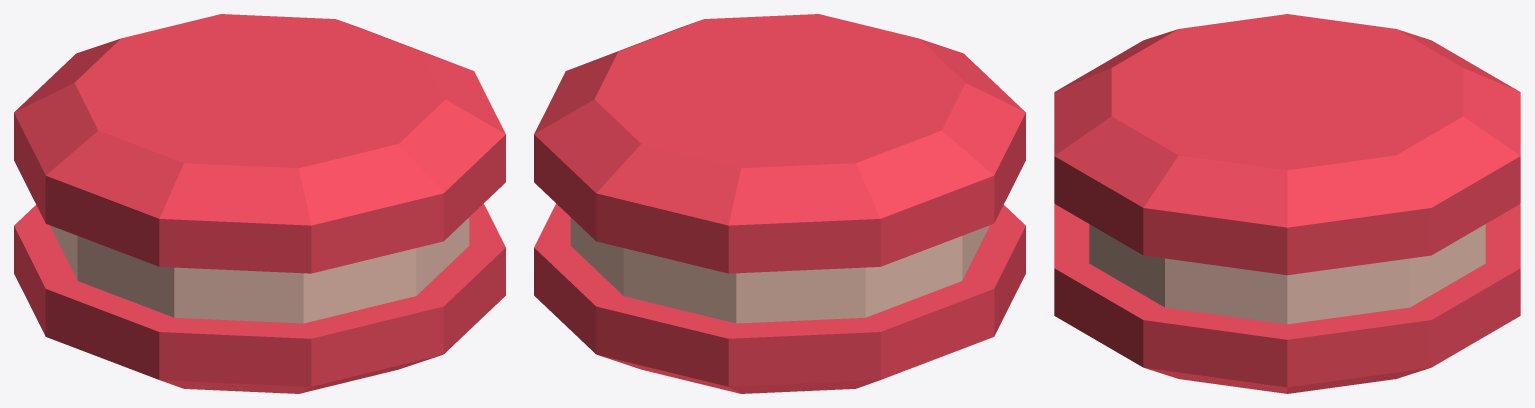
The model's file is macaron02.fbx.
3 renders of one model, left to right at view 1: azimuth 30°, elevation 25°; view 2: azimuth 150°, elevation 25°; view 3: azimuth 270°, elevation 25°, orthographic.
Visible parts, largest first — view 1: macaron02; view 2: macaron02; view 3: macaron02.
Part boxes in pixels (x1,y1,x2,y2): macaron02: (14,14,505,393); macaron02: (534,14,1025,393); macaron02: (1054,14,1520,393).
Size of the model in its own units: 80.55 by 40.56 by 76.61.
1 material, 1 textured.
